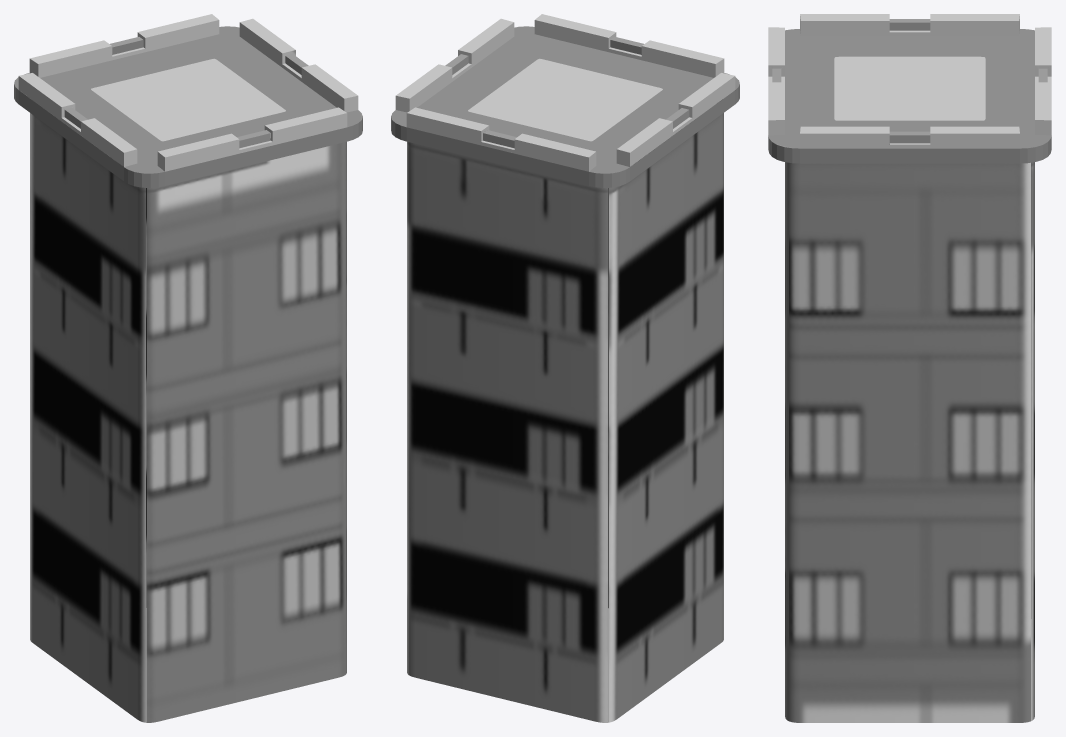
File: House.fbx
The picture shows the model from 3 angles, left to right: view 1: azimuth 30°, elevation 25°; view 2: azimuth 150°, elevation 25°; view 3: azimuth 270°, elevation 25°; orthographic projection. The views are drawn at different scales.
Visible parts, largest first — view 1: Box014; view 2: Box014; view 3: Box014.
Boxes of the visible parts, <box> form: Box014: <box>14,14,362,722</box>; Box014: <box>391,14,739,722</box>; Box014: <box>768,14,1051,722</box>.
Bounding box in the file's own units: 113 × 263 × 113.
